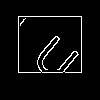U: (29, 26, 88, 85)
